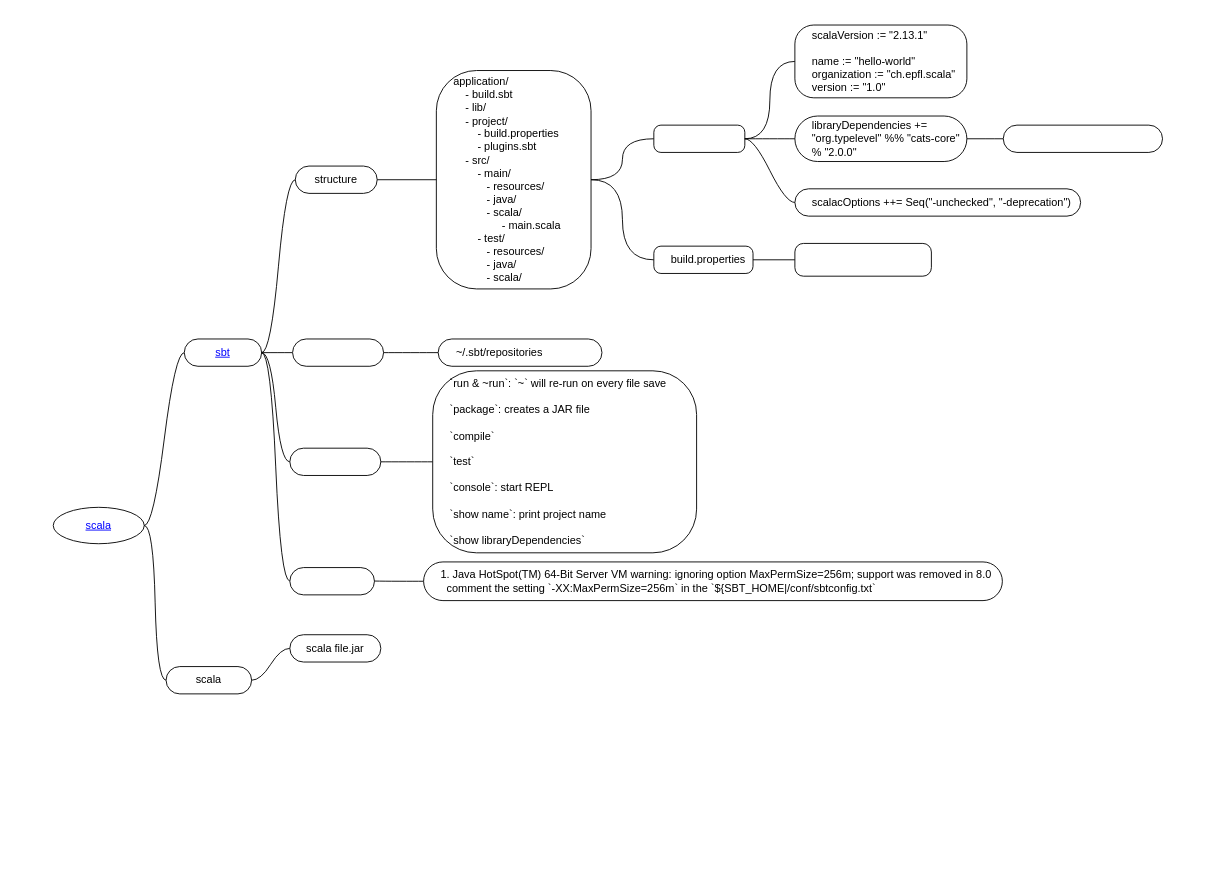
Some shapes in this 1209 by 877 pixel diagram are drawn without their labels. Here are the shapes that lost their labels. From the top down, the box of each, then its label:
(653, 124, 745, 152): build.sbt
(1002, 124, 1163, 152): jars stored in `~/.ivy2/cache`
(794, 243, 931, 276): sbt.version=1.3.2
(292, 338, 384, 366): repositories
(289, 447, 381, 475): commands
(289, 567, 374, 595): config
